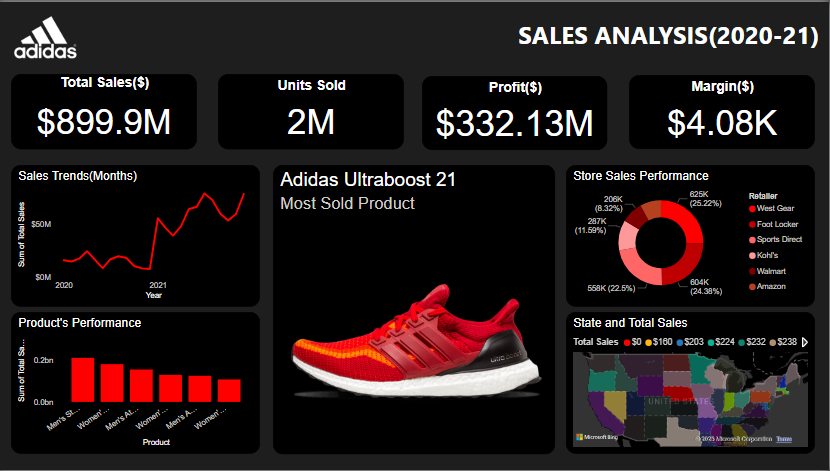

Layout of this report page (visuals, bound fields, positions):
{"tool":"powerbi","page":{"name":"Page 1","canvas":[1280,720],"ordinal":0},"visuals":[{"type":"card","title":"Total Sales($)","fields":{"Values":["Sum(Data Sales Adidas.Total Sales)"]},"box":[21.7,111.3,286.3,115.7],"z":0},{"type":"card","title":"Units Sold","fields":{"Values":["Sum(Data Sales Adidas.Units Sold)"]},"box":[339.8,111.3,286.3,115.7],"z":1000},{"type":"card","title":"Profit($)","fields":{"Values":["Sum(Data Sales Adidas.Operating Profit)"]},"box":[653.5,114.2,284.8,114.2],"z":2000},{"type":"card","title":"Margin($)","fields":{"Values":["Sum(Data Sales Adidas.Operating Margin)"]},"box":[971.6,112.8,286.3,114.2],"z":3000},{"type":"lineChart","title":"Sales Trends(Months)","fields":{"Category":["Data Sales Adidas.Invoice Date.Variation.Date Hierarchy.Year","Data Sales Adidas.Invoice Date.Variation.Date Hierarchy.Quarter","Data Sales Adidas.Invoice Date.Variation.Date Hierarchy.Month","Data Sales Adidas.Invoice Date.Variation.Date Hierarchy.Day"],"Y":["Sum(Data Sales Adidas.Total Sales)"]},"box":[21.7,250.1,383.1,218.3],"z":4000},{"type":"columnChart","title":"Product''s Performance","fields":{"Category":["Data Sales Adidas.Product"],"Y":["Sum(Data Sales Adidas.Total Sales)"]},"box":[21.7,477.1,383.1,218.3],"z":5000},{"type":"textbox","box":[796.6,20.2,482.9,89.6],"z":6000},{"type":"donutChart","title":"Store Sales Performance","fields":{"Y":["Sum(Data Sales Adidas.Units Sold)"],"Category":["Data Sales Adidas.Retailer"]},"box":[874.7,250.1,383.1,218.3],"z":7000},{"type":"filledMap","fields":{"Category":["Data Sales Adidas.State"],"Series":["Data Sales Adidas.Total Sales"]},"box":[874.7,477.1,383.1,218.3],"z":8000},{"type":"image","box":[21.7,0,105.5,109.9],"z":9000},{"type":"image","title":"Adidas Ultraboost 21","box":[425.1,250.1,433.7,445.3],"z":10000}]}

Visuals, with their boxes in screenshot pixels (x1, y1, x2, y2), scaled from the page's 1280x720 canvas onto the 830x471 screenshot:
"Total Sales($)" card: BBox(14, 73, 200, 148)
"Units Sold" card: BBox(220, 73, 406, 148)
"Profit($)" card: BBox(424, 75, 608, 149)
"Margin($)" card: BBox(630, 74, 816, 148)
"Sales Trends(Months)" lineChart: BBox(14, 164, 262, 306)
"Product''s Performance" columnChart: BBox(14, 312, 262, 455)
textbox: BBox(517, 13, 829, 72)
"Store Sales Performance" donutChart: BBox(567, 164, 816, 306)
filledMap - Data Sales Adidas.State x Data Sales Adidas.Total Sales: BBox(567, 312, 816, 455)
image: BBox(14, 0, 82, 72)
"Adidas Ultraboost 21" image: BBox(276, 164, 557, 455)
